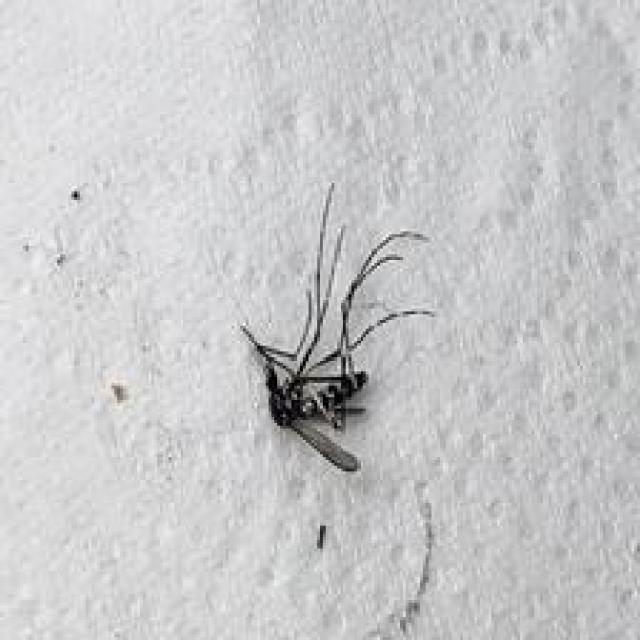Aedes albopictus: (238, 181, 436, 473)
